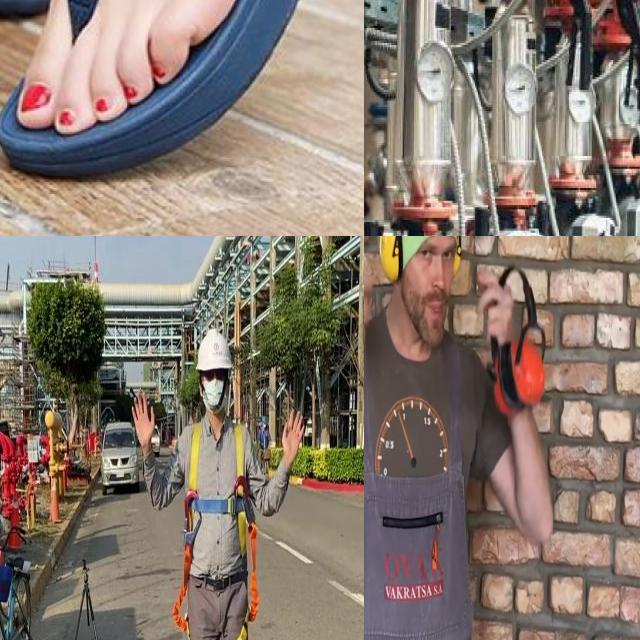Ear-protection: (380, 236, 470, 360)
Harness: (173, 422, 260, 640)
No_Glasses: (412, 236, 455, 280)
Sandals: (0, 0, 364, 190)
